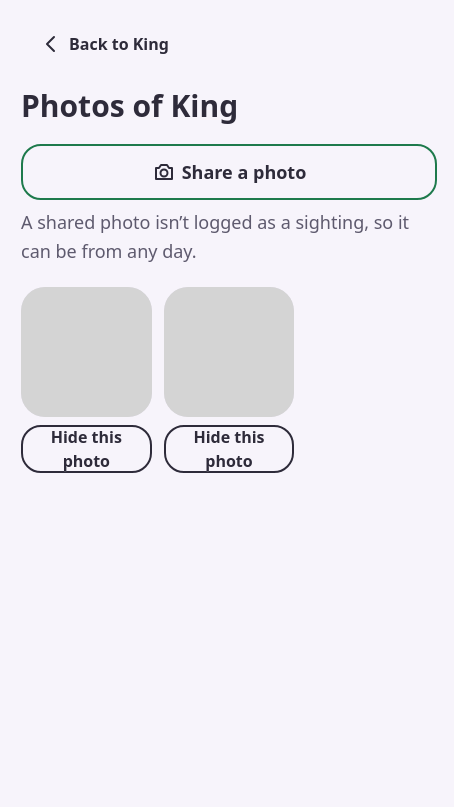
Test: PhotosPage — admin › hides a photo after asking in place, takes it off the page and says where to restore it
The width and height of the screenshot is (454, 807).
Click the 1st button "Hide this photo" at (86, 449), box [21, 425, 152, 473]
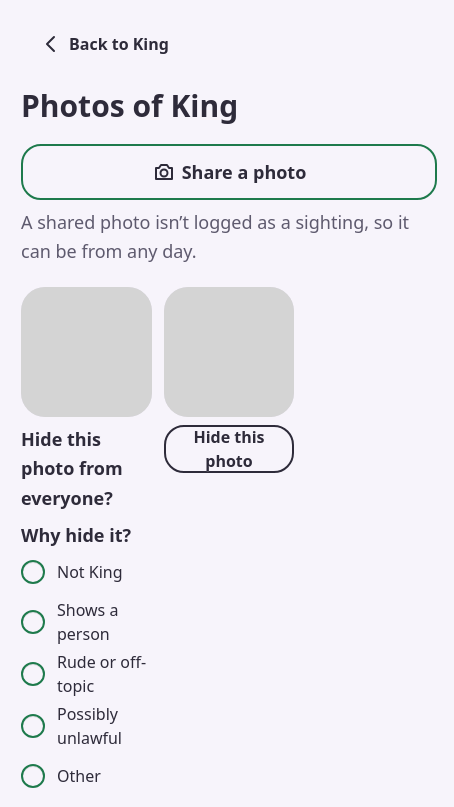
Click the radio button labelled "Other" at (33, 776), box [21, 764, 45, 788]
(page scrolled)
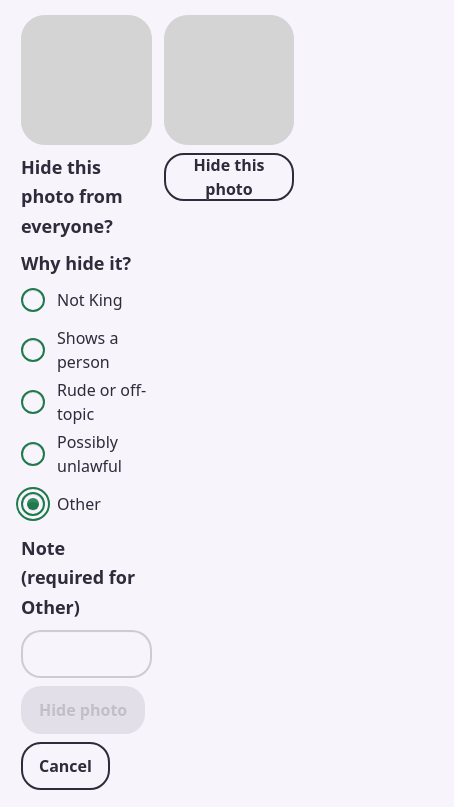
Type "a thumb over the lens" into the field labelled "Note (required for Other)" at (86, 654), box [21, 630, 152, 678]
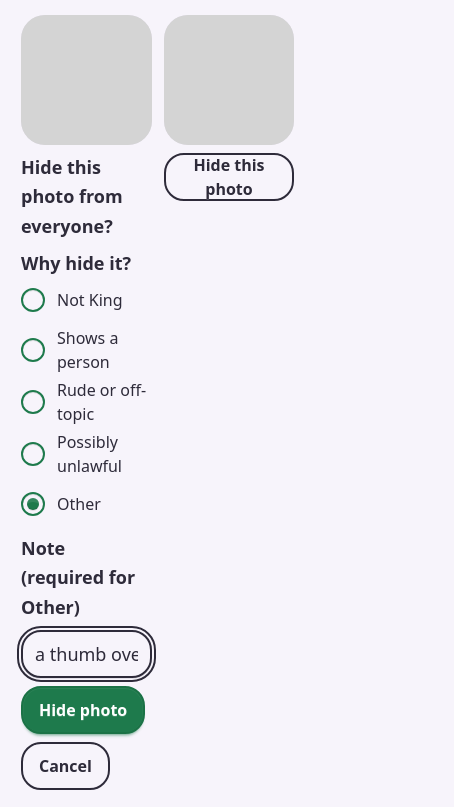
Click the button "Hide photo" at (83, 710), box [21, 686, 145, 734]
(page scrolled)
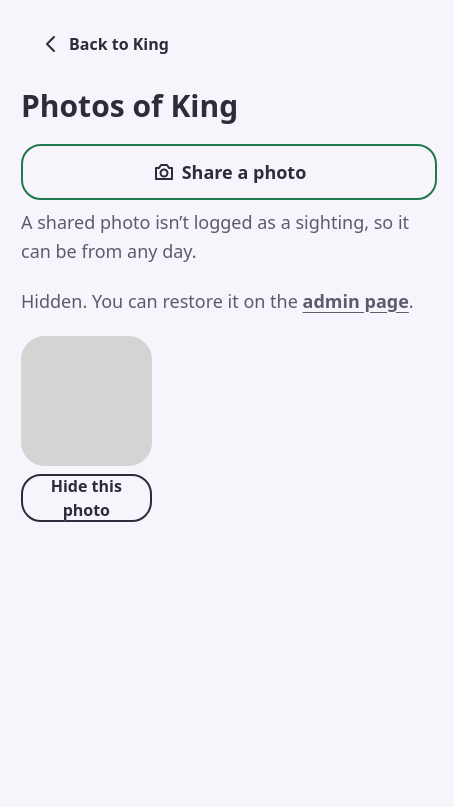
Expected: the message reads "Hidden. You can restore it on the admin page .", [21, 286, 437, 316]
